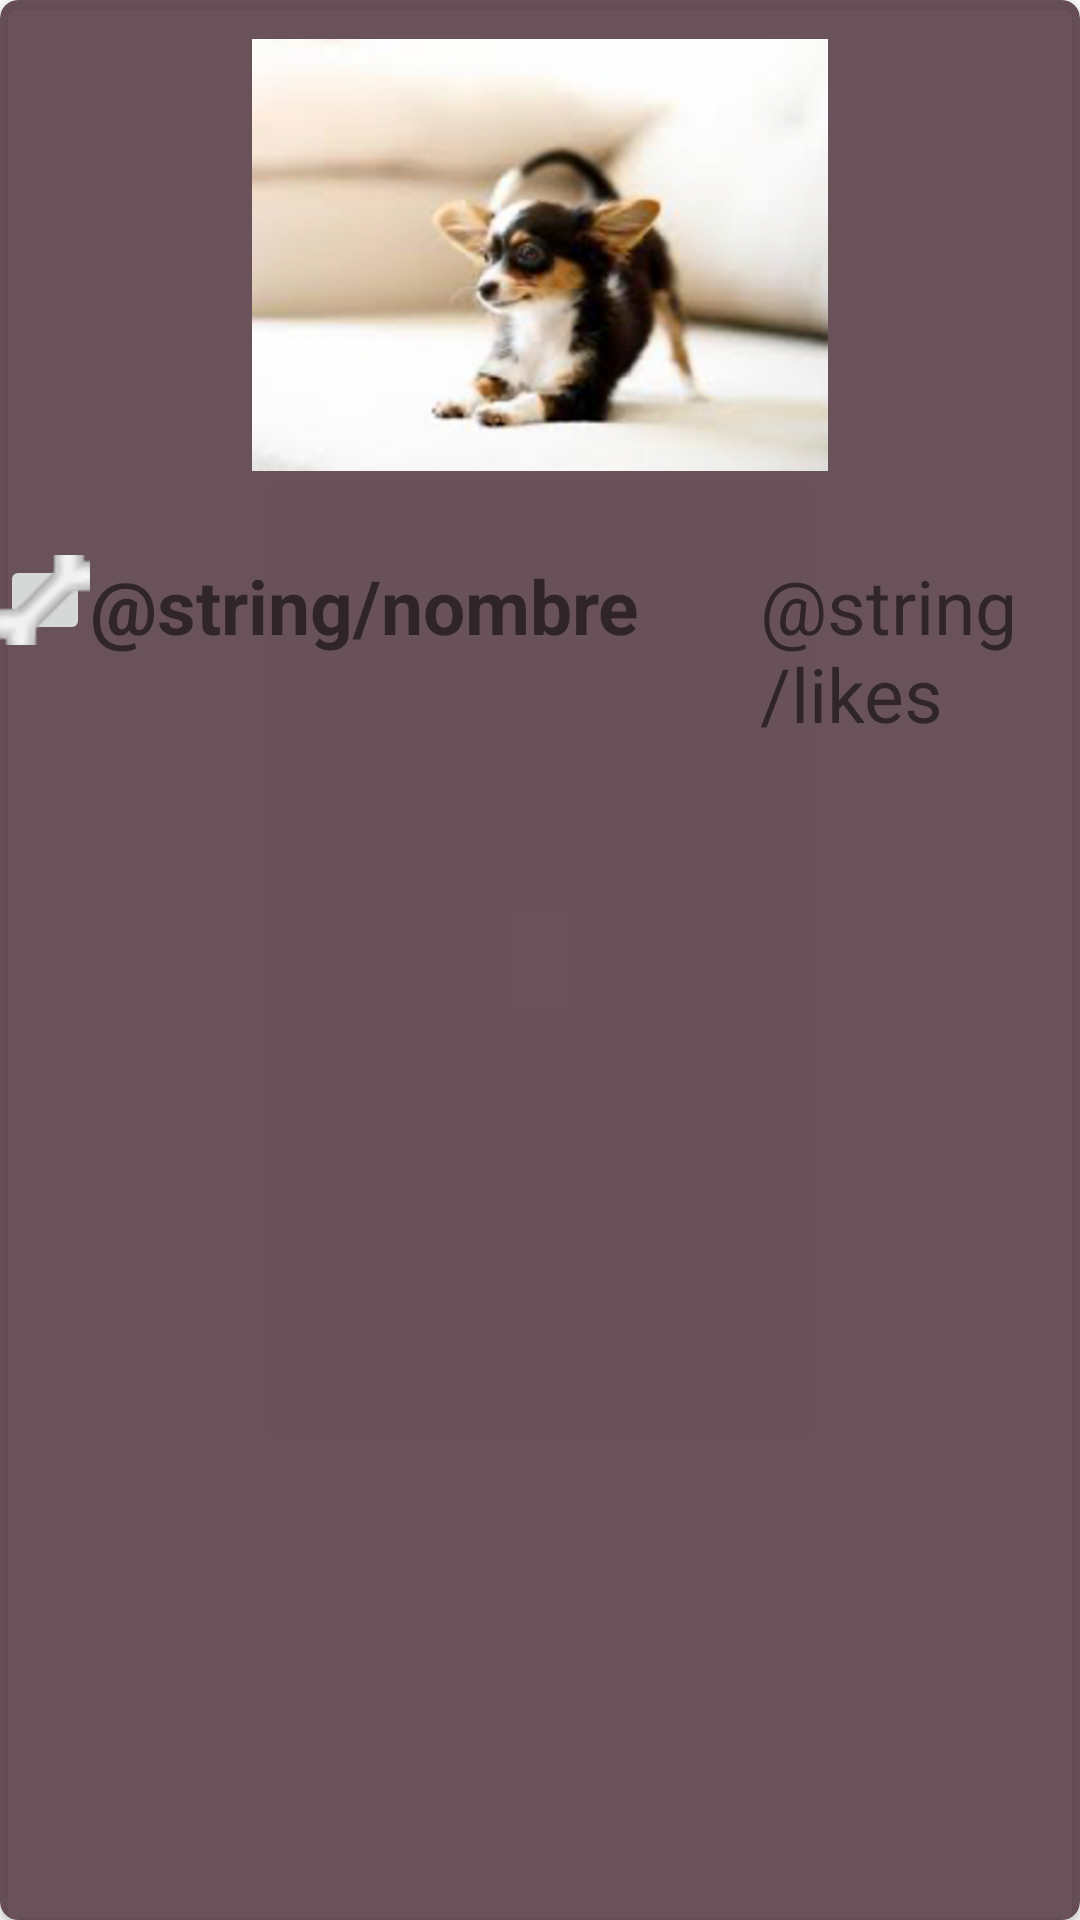

Locate icon controls on the screen. Image size 1080×1920, boxes as (x1, y1, x2, y2).
bone: (0, 555, 90, 645)
